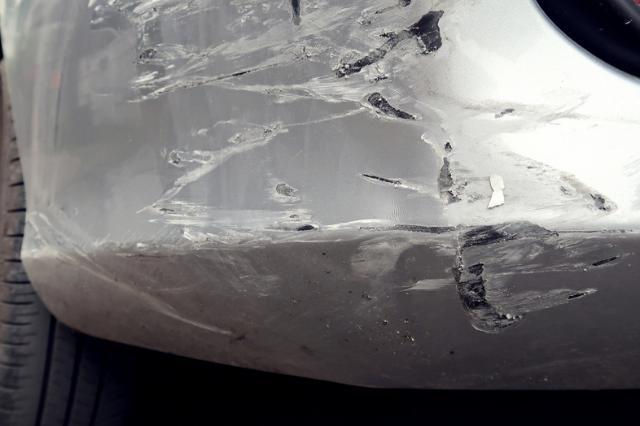Bumper: (0, 4, 640, 387)
